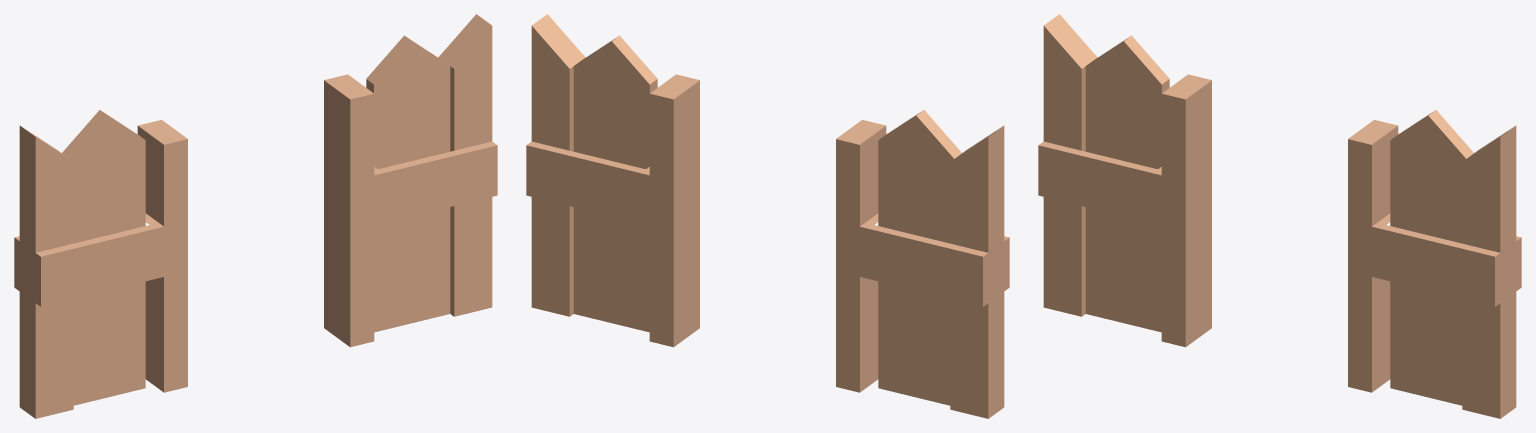
The model's file is fenceGate.glb.
3 views of the same model, side by side, from view 1: azimuth 30°, elevation 25°; view 2: azimuth 150°, elevation 25°; view 3: azimuth 330°, elevation 25° (orthographic).
Visible parts, largest first — view 1: fenceGate, board (×2); view 2: fenceGate, board (×2); view 3: fenceGate, board (×2).
Part boxes in pixels (left/top/right/bottom): fenceGate: left=19, top=14, right=492, bottom=418; board (×2): left=14, top=74, right=497, bottom=392; fenceGate: left=531, top=14, right=1004, bottom=418; board (×2): left=526, top=74, right=1009, bottom=392; fenceGate: left=1043, top=14, right=1516, bottom=418; board (×2): left=1038, top=74, right=1521, bottom=392.
Size of the model in its own units: 1 by 0.59 by 0.1.
